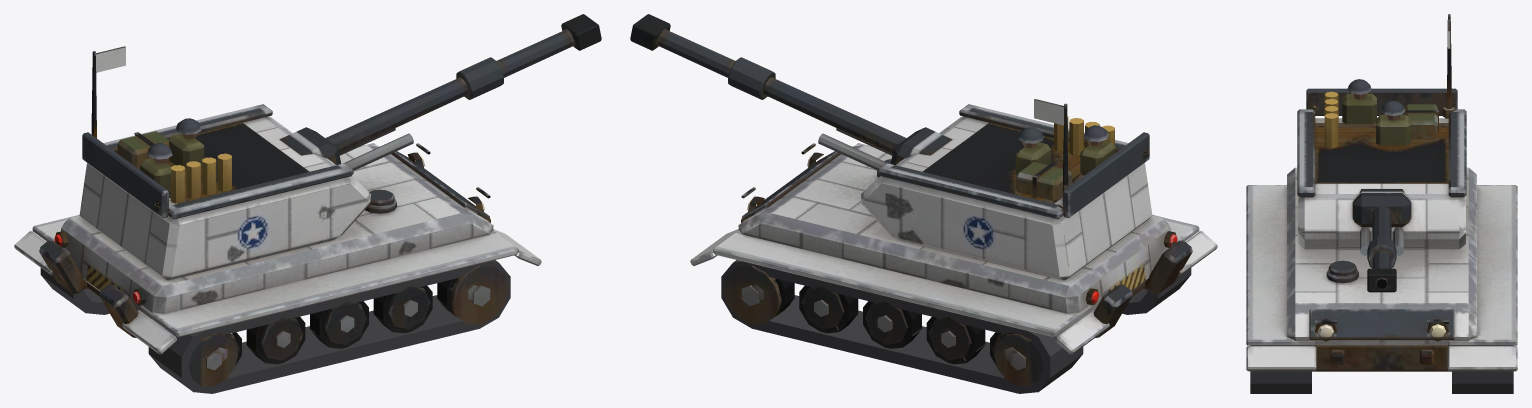
Rendered from arty.allies.glb.
3 renders of one model, left to right at view 1: azimuth 30°, elevation 25°; view 2: azimuth 150°, elevation 25°; view 3: azimuth 270°, elevation 25°, orthographic. The views are drawn at different scales.
Parts seen in each view (by area): view 1: root_mesh, house_mesh, b0_mesh, gun_mesh; view 2: root_mesh, house_mesh, b0_mesh, gun_mesh; view 3: root_mesh, house_mesh, gun_mesh, b0_mesh.
Part boxes in pixels (x1,y1,x2,y2): root_mesh: [14, 143, 541, 393]; house_mesh: [79, 46, 370, 280]; b0_mesh: [325, 14, 601, 153]; gun_mesh: [279, 127, 413, 170]; root_mesh: [690, 143, 1217, 393]; house_mesh: [861, 99, 1152, 280]; b0_mesh: [630, 14, 906, 153]; gun_mesh: [818, 127, 952, 170]; root_mesh: [1246, 167, 1517, 393]; house_mesh: [1297, 14, 1466, 249]; gun_mesh: [1352, 189, 1411, 255]; b0_mesh: [1367, 206, 1396, 292].
Size of the model in its own units: 0.9988 by 0.492 by 0.485.
2 materials, 1 textured.
